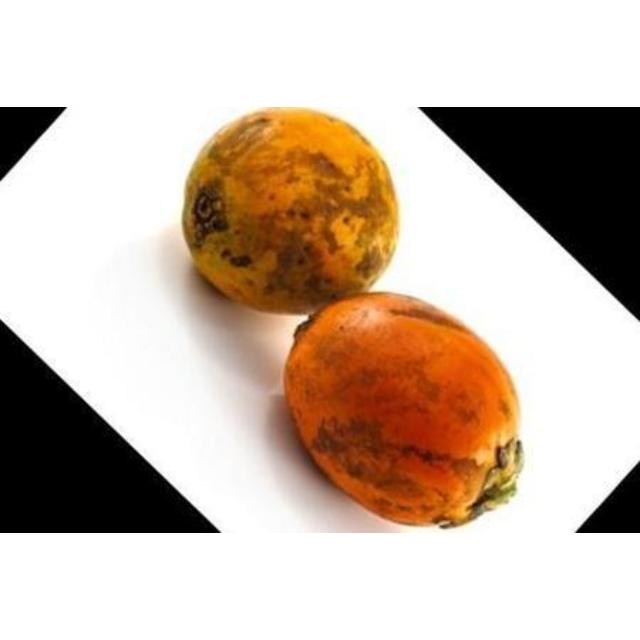good: (283, 293, 526, 529), (181, 108, 401, 317)
